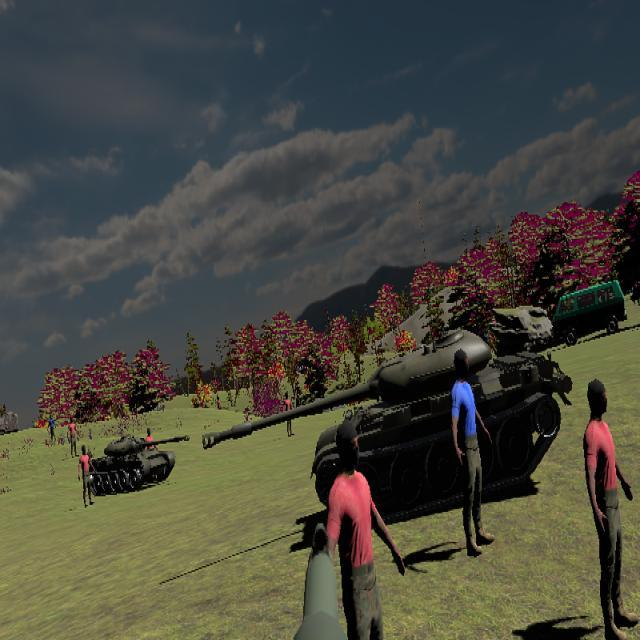Human: (326, 421, 405, 640), (583, 380, 636, 639), (450, 346, 496, 558), (77, 443, 94, 508)
Tank: (203, 328, 572, 521), (88, 434, 190, 496)
car: (553, 279, 627, 345)
